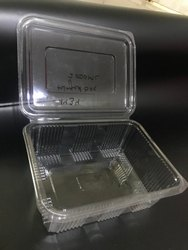PlasticBox: (13, 11, 188, 236)
